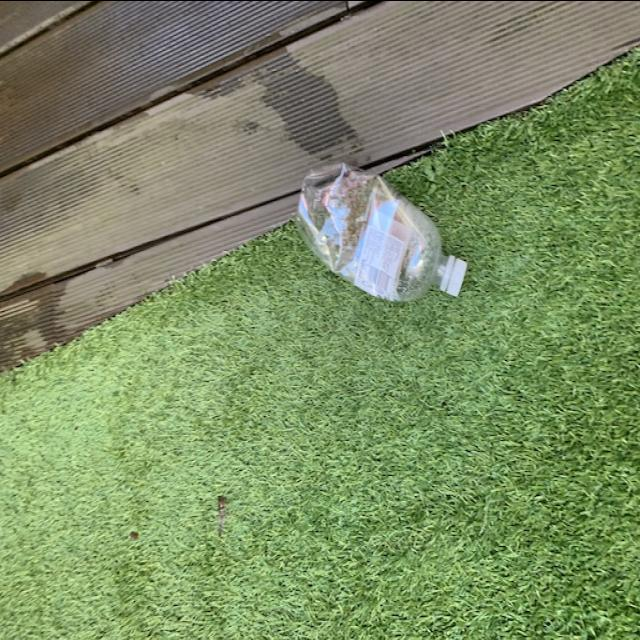litter: (294, 152, 473, 306)
